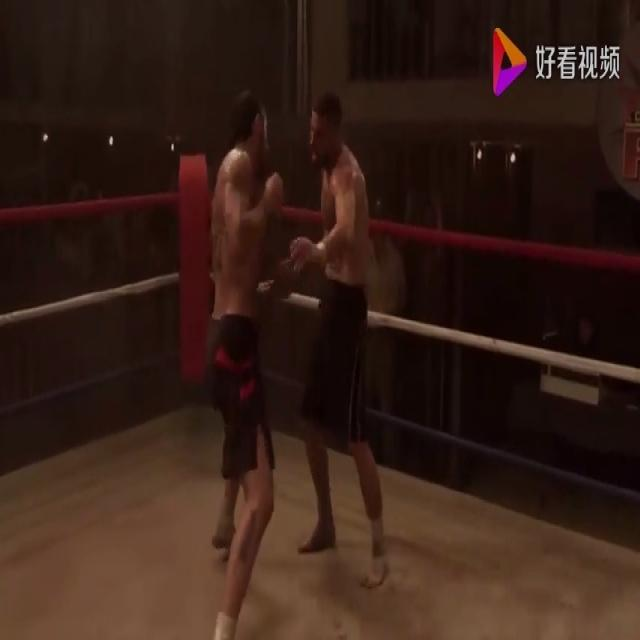fight: (200, 78, 398, 640)
